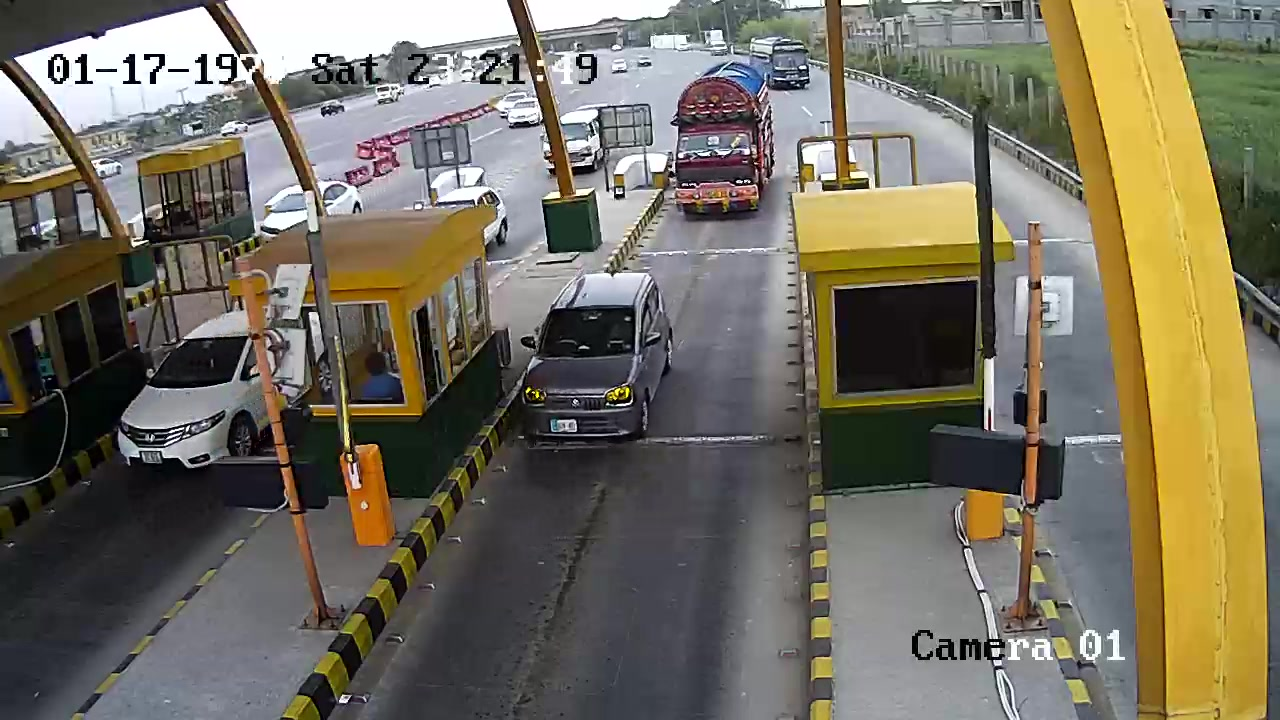F1: (513, 264, 682, 458)
